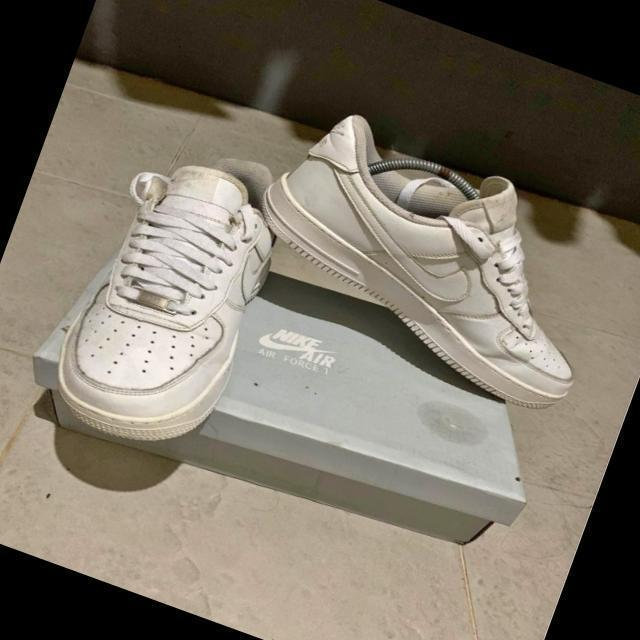nike fake air force: (224, 92, 636, 423), (38, 120, 298, 472)
